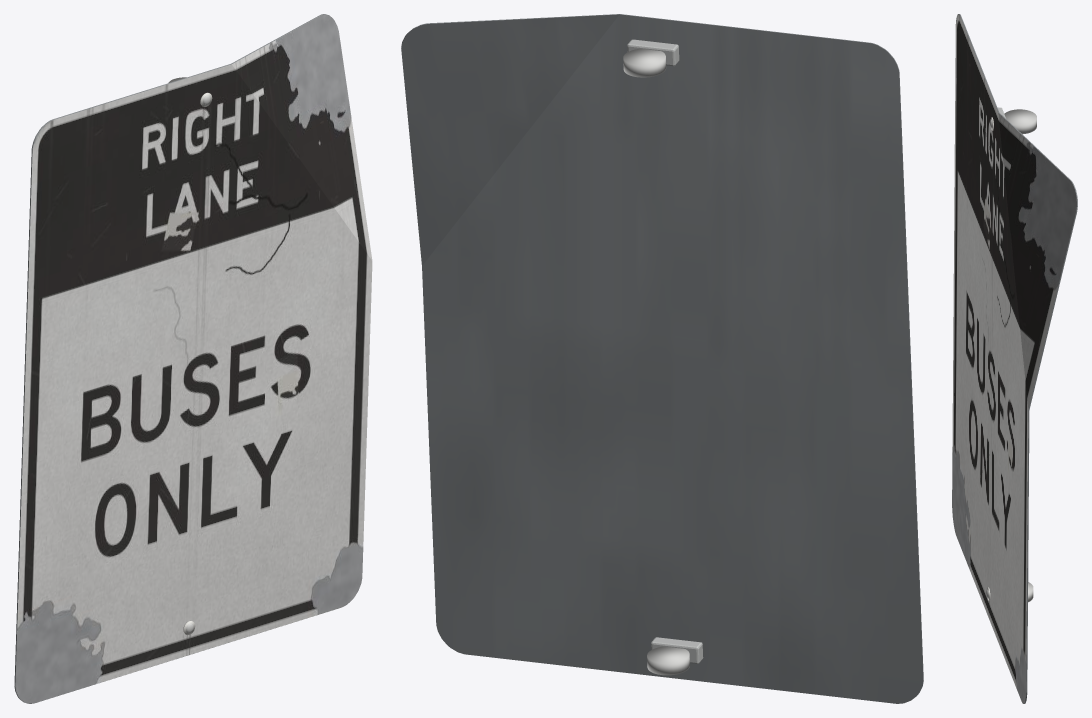
Rendered from transitLane-v1-battered.glb.
3 renders of one model, left to right at view 1: azimuth 30°, elevation 25°; view 2: azimuth 150°, elevation 25°; view 3: azimuth 270°, elevation 25°, orthographic. The views are drawn at different scales.
Parts seen in each view (by area): view 1: transitLane-v1-battered; view 2: transitLane-v1-battered; view 3: transitLane-v1-battered.
Boxes of the visible parts, bbox=[...] form: transitLane-v1-battered: bbox=[14, 14, 372, 703]; transitLane-v1-battered: bbox=[401, 14, 923, 703]; transitLane-v1-battered: bbox=[952, 14, 1077, 703].
Size of the model in its own units: 0.7716 by 1.09 by 0.2298.
Materials: 1 (1 with a texture image).
